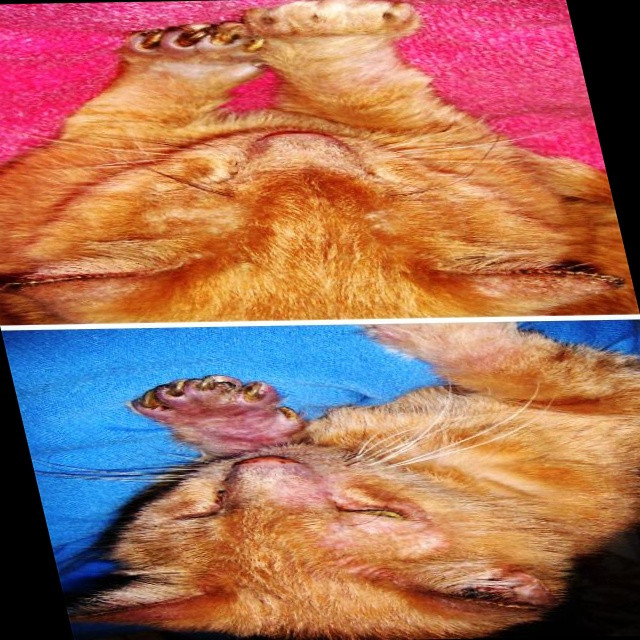ringworm: (150, 404, 287, 442), (309, 522, 438, 557)
